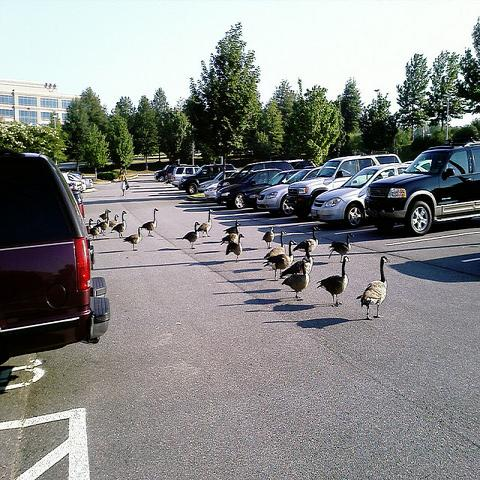car: (21, 145, 422, 203), (310, 163, 411, 229), (287, 156, 361, 220), (256, 168, 311, 218), (214, 169, 281, 210), (217, 161, 293, 191), (262, 170, 301, 188), (204, 172, 224, 202), (172, 166, 200, 187), (197, 172, 223, 192), (69, 189, 86, 217), (154, 164, 178, 182)
truck: (3, 146, 107, 361), (368, 136, 480, 232), (216, 159, 295, 193)
